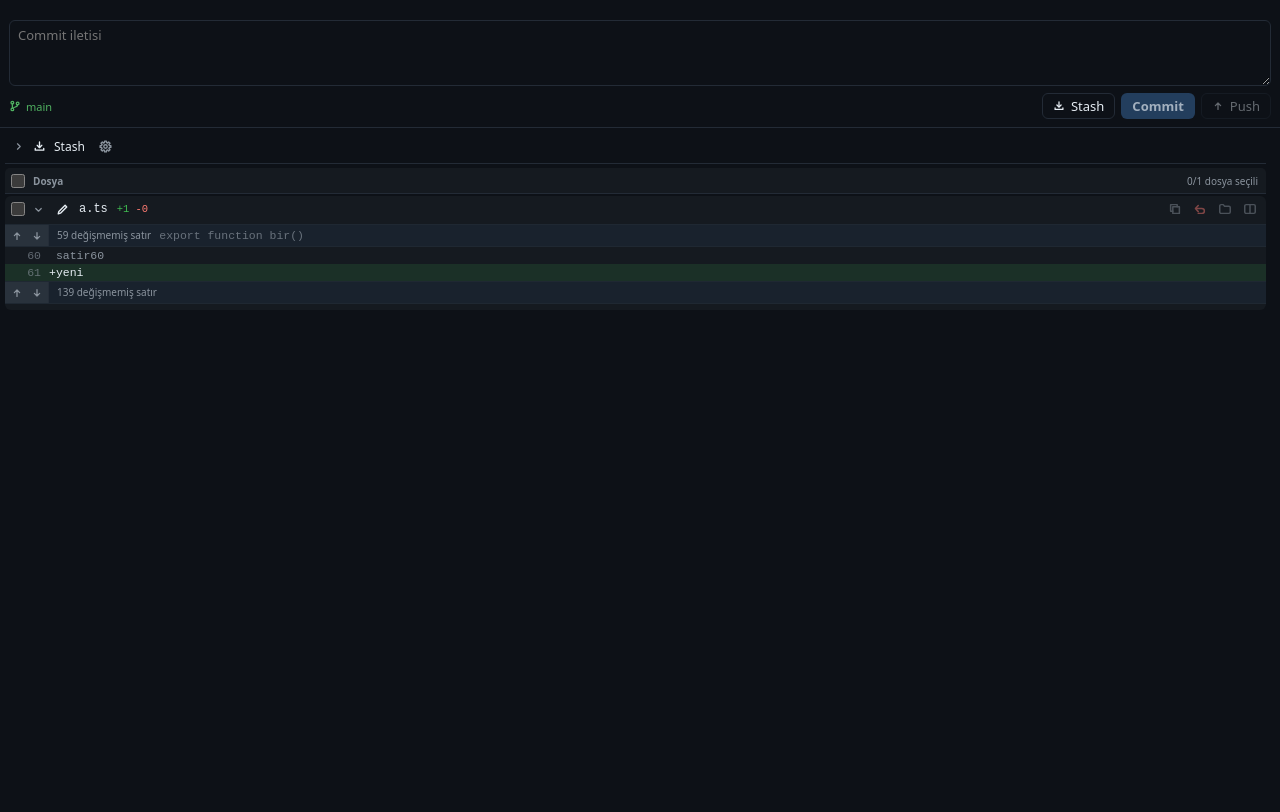
bağlam açıcıları › yukarı ok satırları açıcının ÜSTÜNDE açıyor
Click the button named "Yukarıdan 50 satır aç" next to "59 değişmemiş satır".
click(16, 236)  # box 8,228 -> 26,242
(page scrolled)
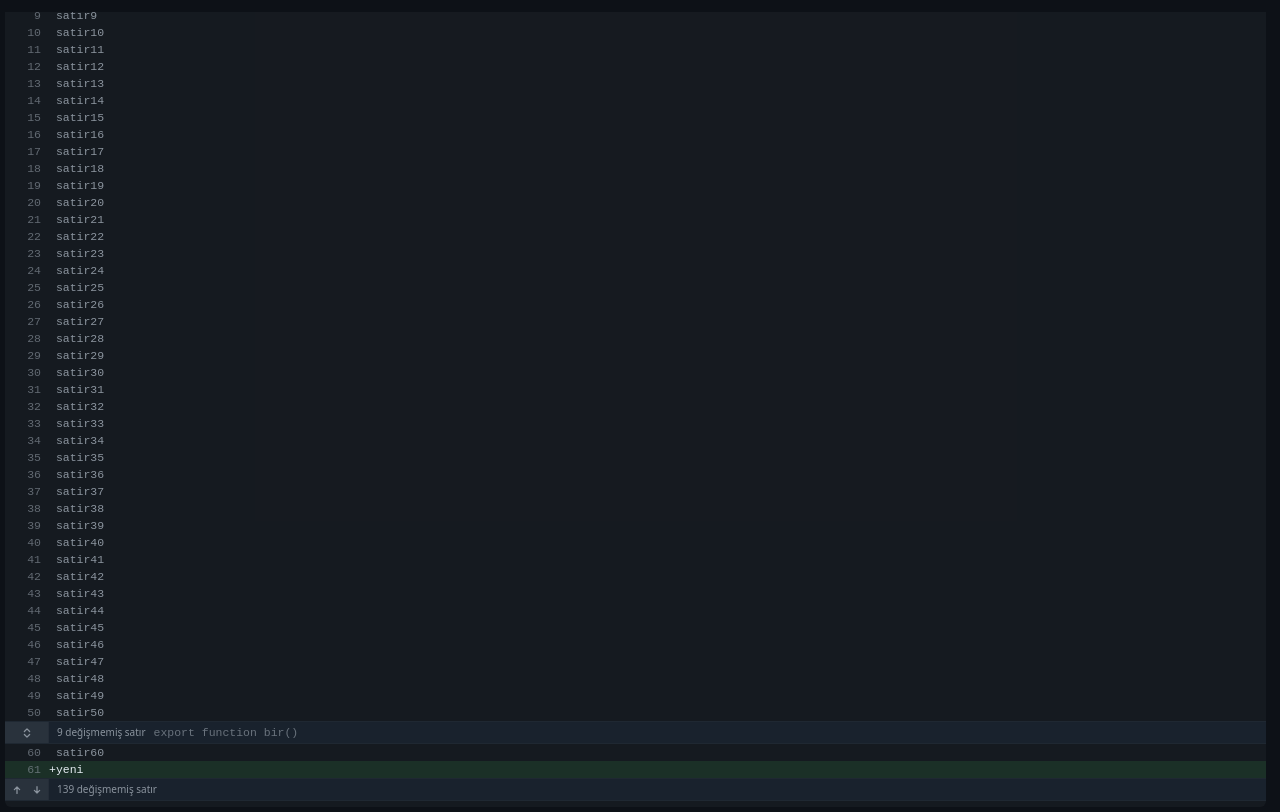
Now the text with class "diff-gap-count" reads "9 değişmemiş satır", box 57,725 -> 146,739
